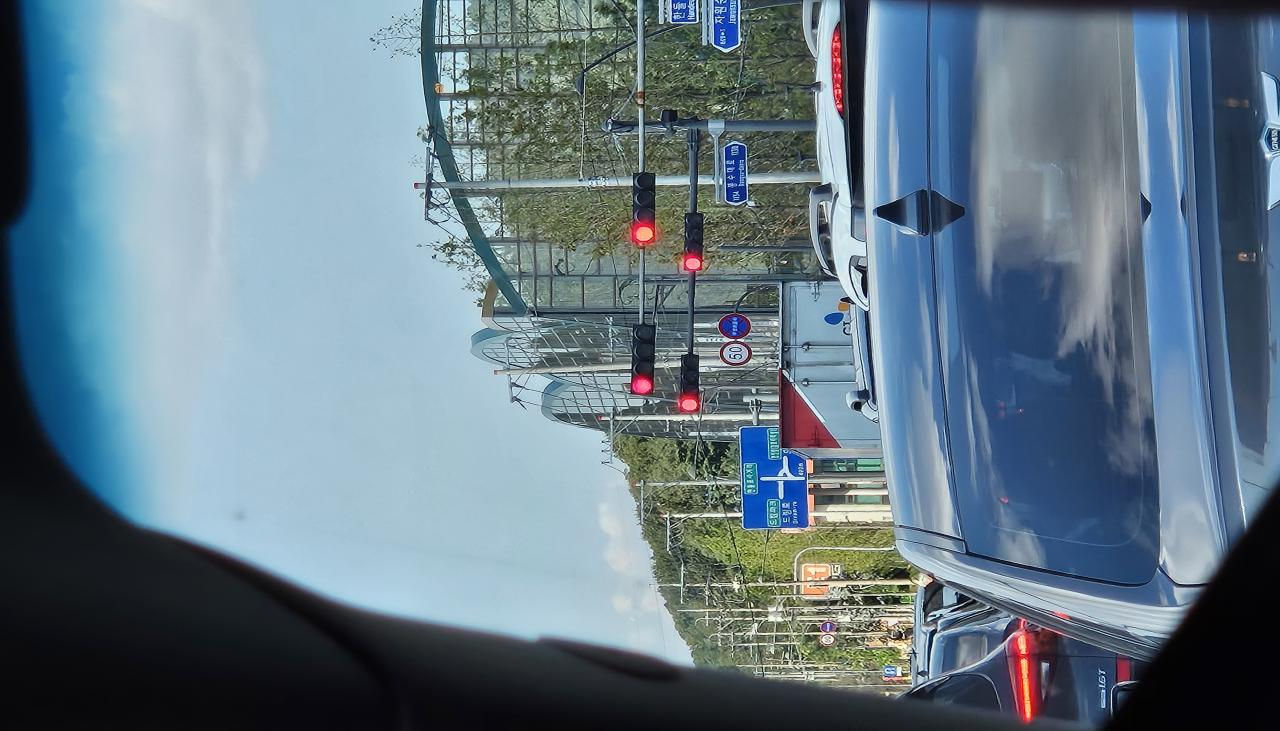Red Light: (640, 480, 664, 498), (442, 480, 465, 498), (602, 519, 624, 535), (417, 517, 438, 532)
